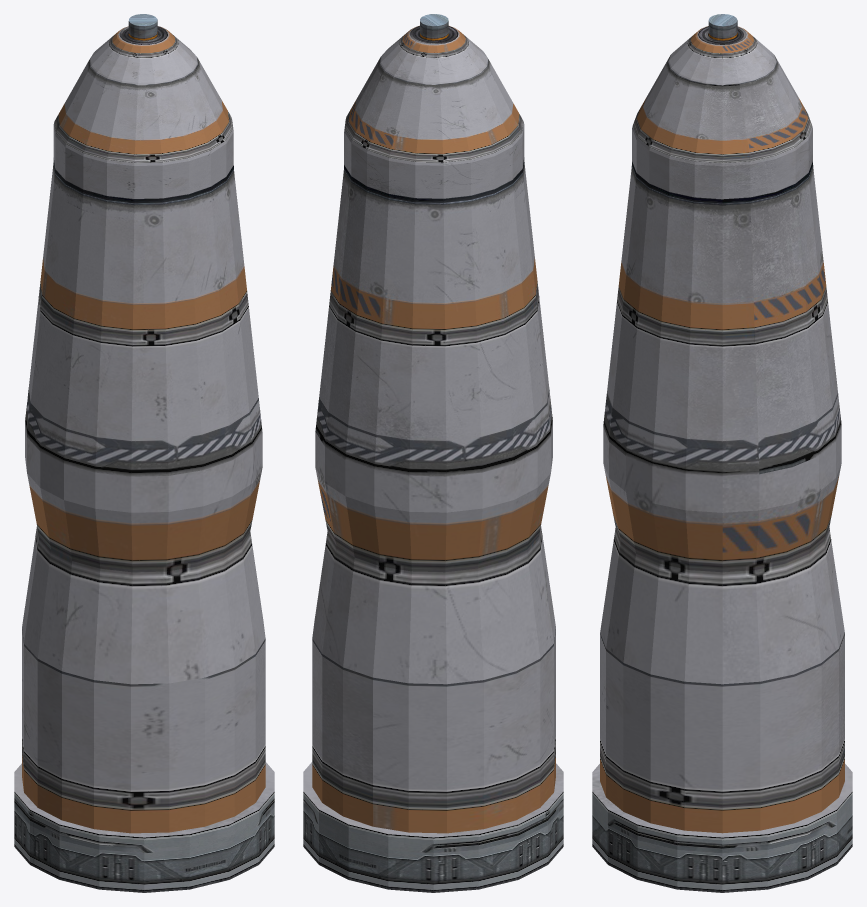
The model's file is 高炉炉身.obj.
The picture shows the model from 3 angles, left to right: view 1: azimuth 30°, elevation 25°; view 2: azimuth 150°, elevation 25°; view 3: azimuth 270°, elevation 25°; orthographic projection.
Visible parts, largest first — view 1: Cylinder041, Object094, Cylinder040; view 2: Cylinder041, Object094, Cylinder040; view 3: Cylinder041, Object094, Cylinder040.
Boxes of the visible parts, x1,y1,x2,y2 form: Cylinder041: (22, 26, 265, 833); Object094: (14, 762, 274, 892); Cylinder040: (128, 14, 157, 40); Cylinder041: (312, 25, 555, 833); Object094: (303, 762, 563, 892); Cylinder040: (420, 14, 448, 40); Cylinder041: (600, 26, 844, 833); Object094: (592, 764, 852, 892); Cylinder040: (708, 14, 737, 40).
Size of the model in its own units: 10.94 by 37.32 by 10.77.
